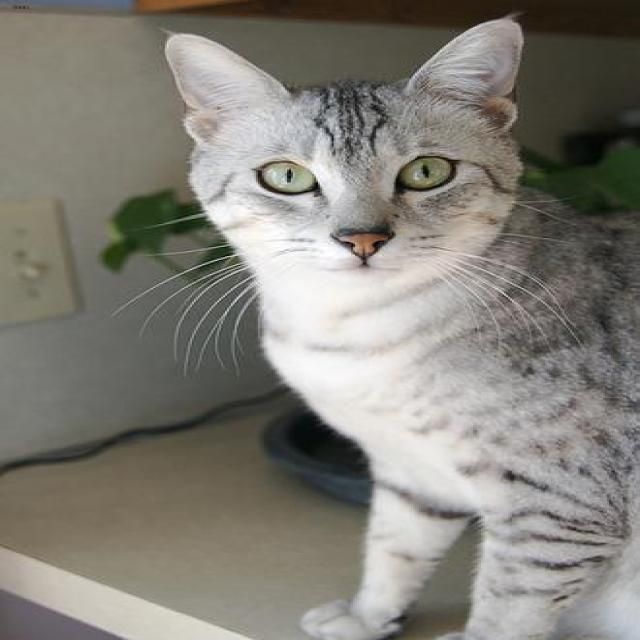cat: (163, 18, 640, 640)
